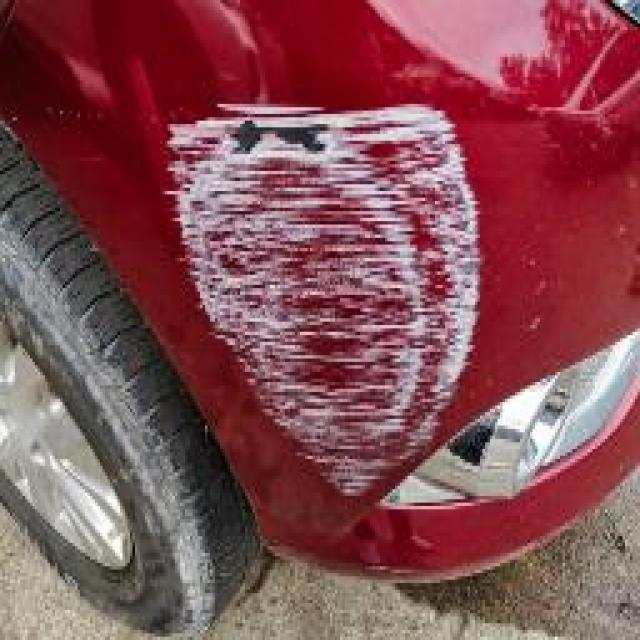Bumper: (140, 37, 530, 513)
